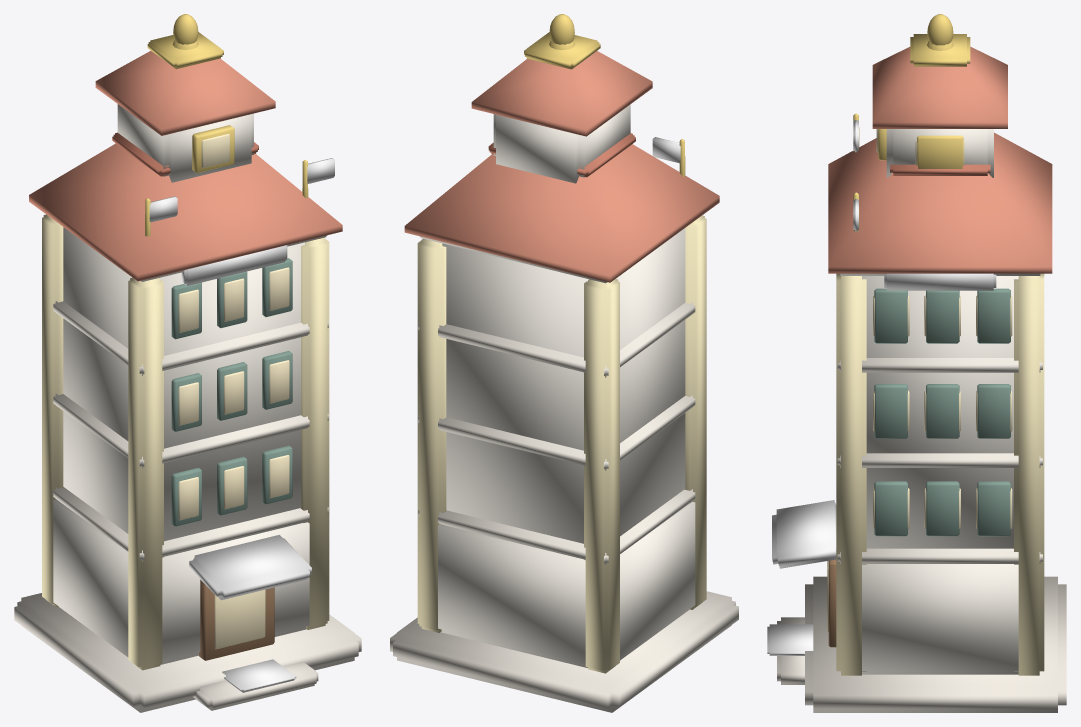
Rendered from lvl4_indochine.glb.
The picture shows the model from 3 angles, left to right: view 1: azimuth 30°, elevation 25°; view 2: azimuth 150°, elevation 25°; view 3: azimuth 270°, elevation 25°; orthographic projection. The views are drawn at different scales.
Visible parts, largest first — view 1: lvl4_indochine; view 2: lvl4_indochine; view 3: lvl4_indochine.
Part boxes in pixels (x1,y1,x2,y2): lvl4_indochine: (14, 14, 361, 712); lvl4_indochine: (390, 14, 738, 712); lvl4_indochine: (767, 14, 1066, 712).
Size of the model in its own units: 0.58 by 1.52 by 0.64.
